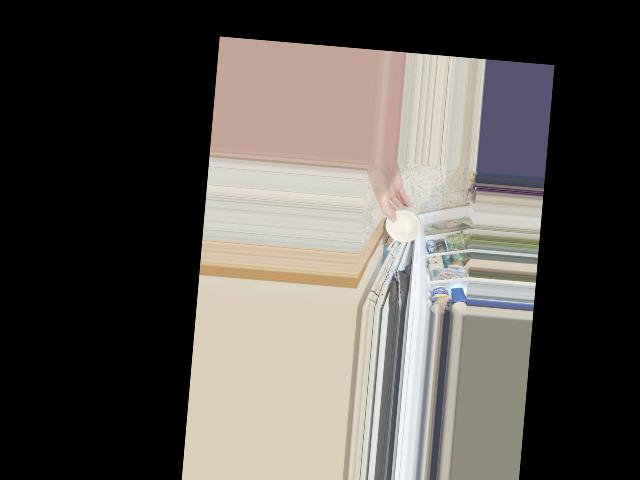cotage: (388, 203, 421, 244)
